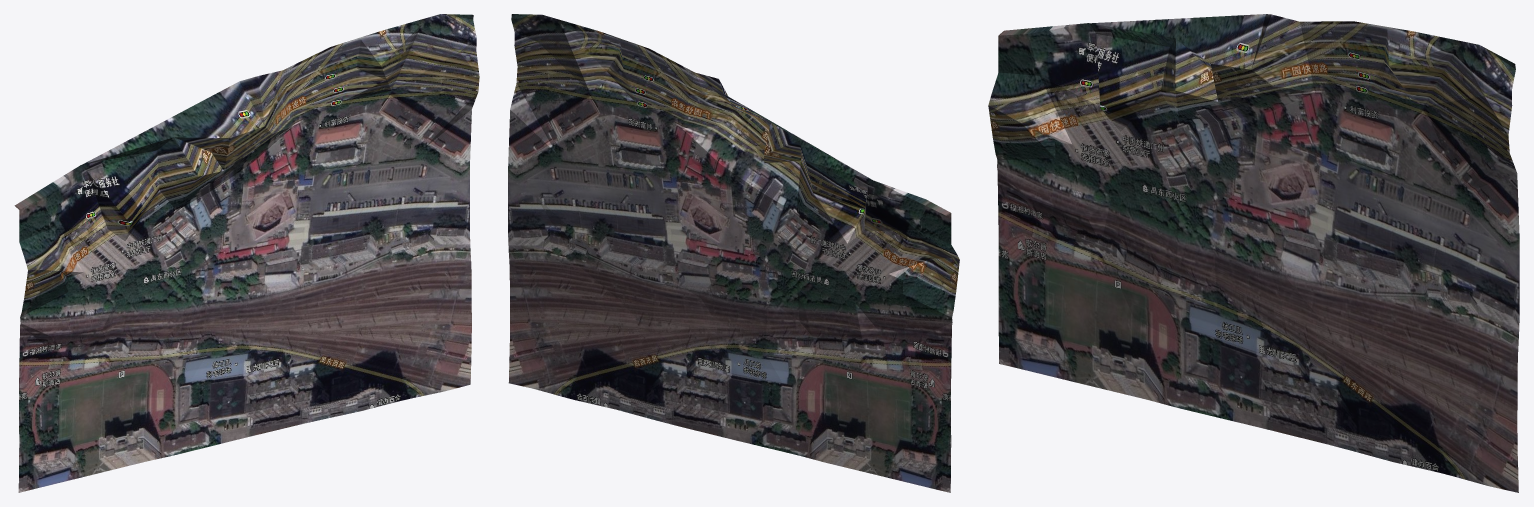
3 renders of one model, left to right at view 1: azimuth 30°, elevation 25°; view 2: azimuth 150°, elevation 25°; view 3: azimuth 330°, elevation 25°, orthographic. The views are drawn at different scales.
Parts seen in each view (by area): view 1: 0_1_0_2_3_2; view 2: 0_1_0_2_3_2; view 3: 0_1_0_2_3_2.
Part boxes in pixels (bbox=[...]): 0_1_0_2_3_2: bbox=[14, 14, 479, 492]; 0_1_0_2_3_2: bbox=[508, 14, 959, 492]; 0_1_0_2_3_2: bbox=[988, 14, 1519, 492].
Size of the model in its own units: 486 by 392 by 41.9.
1 material, 1 textured.
